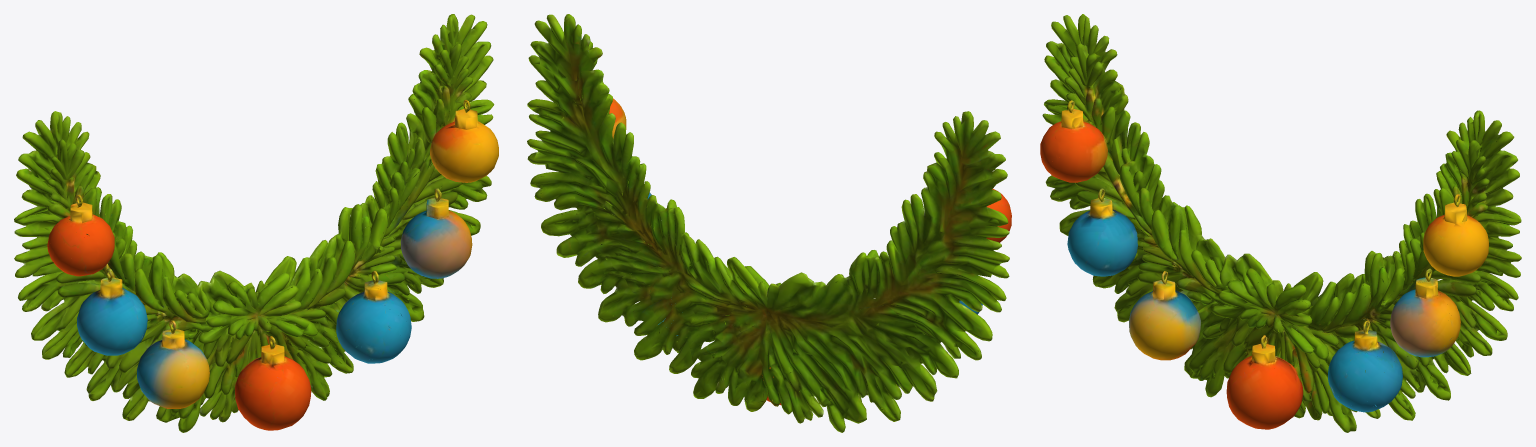
Rendered from couronne.glb.
The picture shows the model from 3 angles, left to right: view 1: azimuth 30°, elevation 25°; view 2: azimuth 150°, elevation 25°; view 3: azimuth 330°, elevation 25°; orthographic projection.
Parts seen in each view (by area): view 1: model_model_0; view 2: model_model_0; view 3: model_model_0.
Part boxes in pixels (x1,y1,x2,y2): model_model_0: [14, 14, 498, 432]; model_model_0: [527, 14, 1011, 432]; model_model_0: [1040, 14, 1521, 432].
Bounding box in the file's own units: 1.9 × 1.33 × 0.2708.
Materials: 1 (1 with a texture image).
